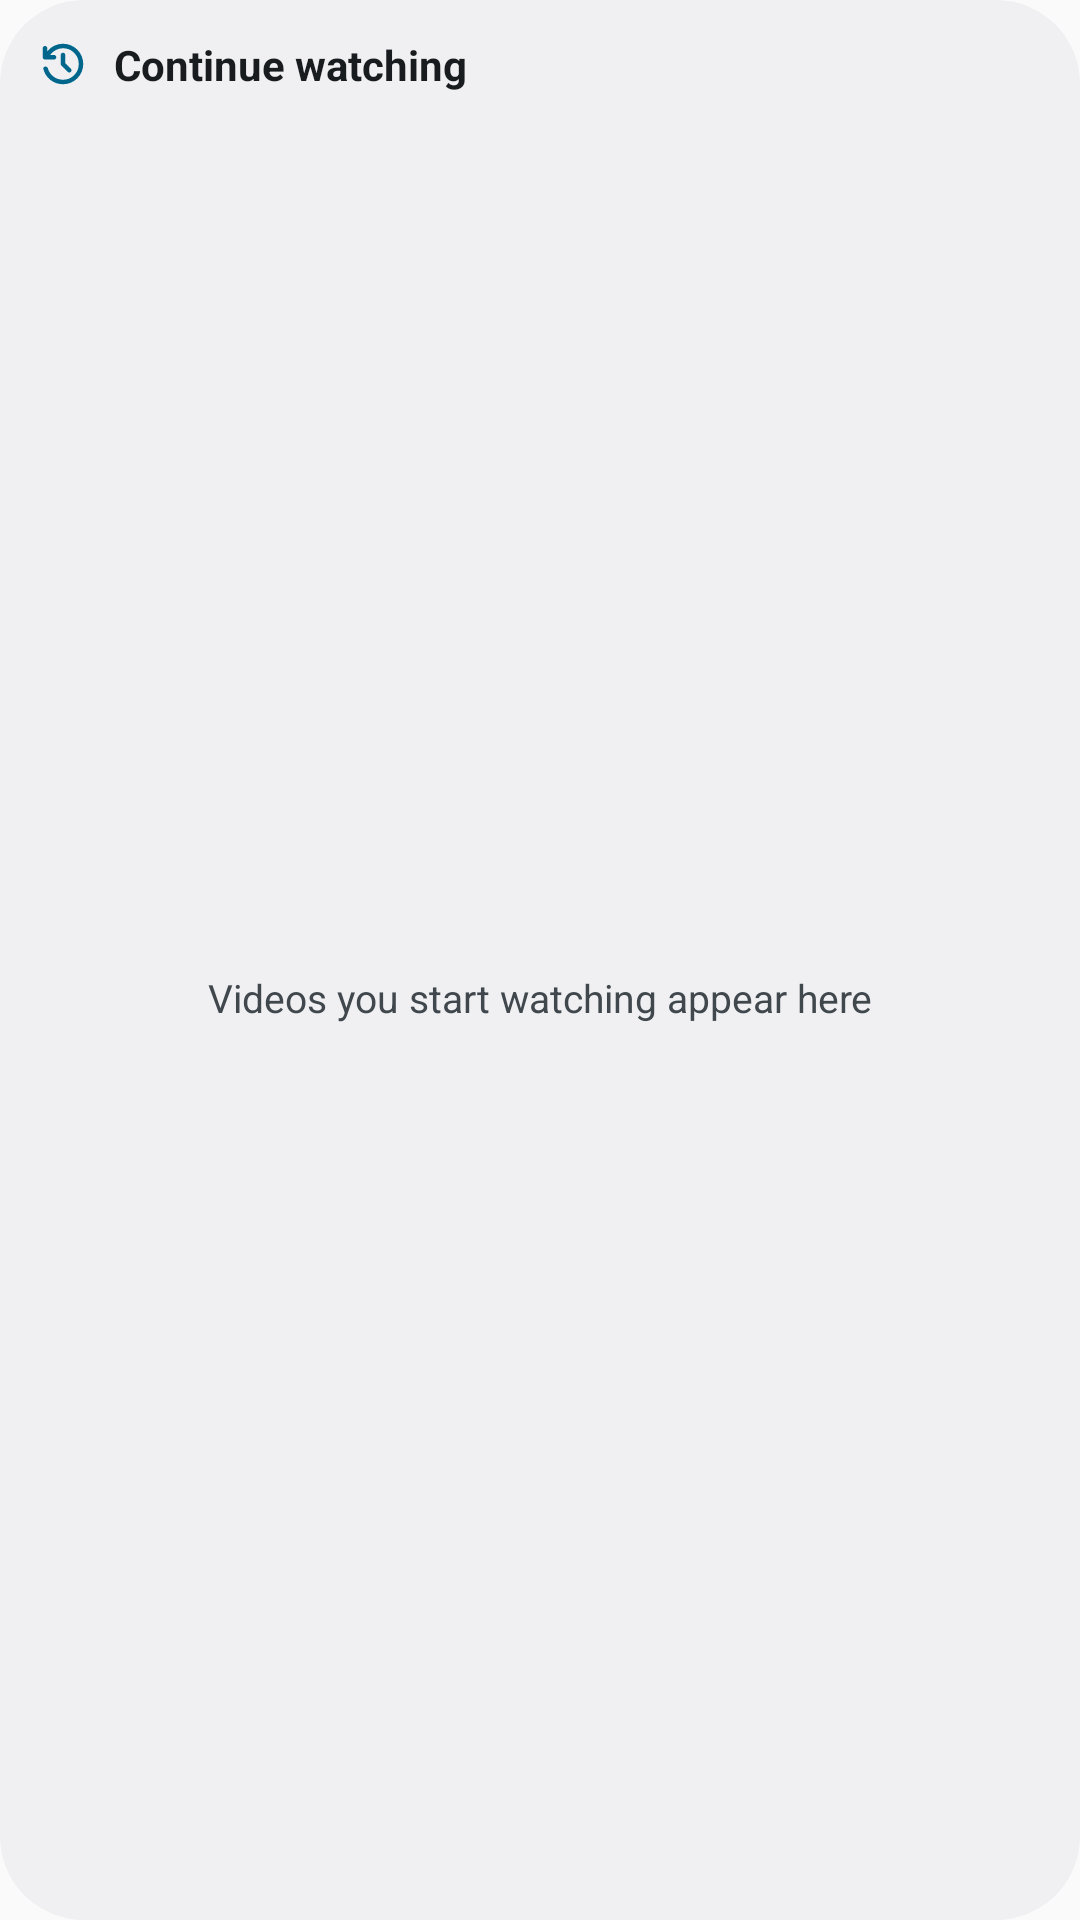

Where icons sit on this 1080×1920 app screen, as (x1=x1, y1=y1, x2=x2, y2=y2):
widget history: (x1=42, y1=43, x2=84, y2=85)
